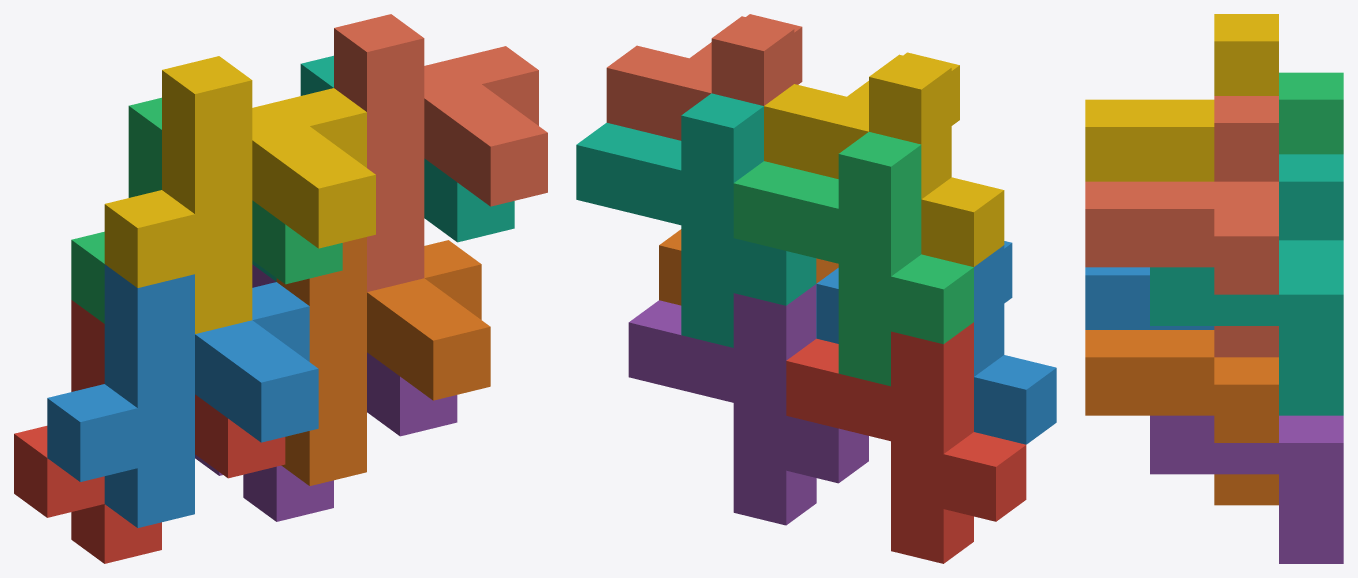
Rendered from tiling.obj.
3 views of the same model, side by side, from view 1: azimuth 30°, elevation 25°; view 2: azimuth 150°, elevation 25°; view 3: azimuth 270°, elevation 25° (orthographic). The views are drawn at different scales.
Parts seen in each view (by area): view 1: copy_1_domain_4, copy_1_domain_2, copy_1_domain_8, copy_1_domain_6, copy_1_domain_1, copy_1_domain_3, copy_1_domain_5, copy_1_domain_7; view 2: copy_1_domain_3, copy_1_domain_1, copy_1_domain_7, copy_1_domain_5, copy_1_domain_4, copy_1_domain_8, copy_1_domain_2, copy_1_domain_6; view 3: copy_1_domain_8, copy_1_domain_7, copy_1_domain_6, copy_1_domain_4, copy_1_domain_5, copy_1_domain_3, copy_1_domain_2.
Boxes of the visible parts, left/top/right/bottom form: copy_1_domain_4: left=104, top=56, right=375, bottom=333; copy_1_domain_2: left=47, top=264, right=318, bottom=527; copy_1_domain_8: left=334, top=14, right=547, bottom=291; copy_1_domain_6: left=276, top=237, right=490, bottom=485; copy_1_domain_1: left=14, top=300, right=285, bottom=563; copy_1_domain_3: left=71, top=97, right=342, bottom=323; copy_1_domain_5: left=195, top=264, right=457, bottom=521; copy_1_domain_7: left=252, top=55, right=514, bottom=281; copy_1_domain_3: left=733, top=132, right=973, bottom=386; copy_1_domain_1: left=786, top=322, right=1026, bottom=563; copy_1_domain_7: left=576, top=93, right=816, bottom=347; copy_1_domain_5: left=628, top=284, right=868, bottom=525; copy_1_domain_4: left=764, top=52, right=1004, bottom=266; copy_1_domain_8: left=606, top=14, right=802, bottom=140; copy_1_domain_2: left=816, top=241, right=1056, bottom=444; copy_1_domain_6: left=659, top=229, right=838, bottom=305; copy_1_domain_8: left=1085, top=96, right=1278, bottom=357; copy_1_domain_7: left=1150, top=154, right=1343, bottom=415; copy_1_domain_6: left=1085, top=330, right=1278, bottom=505; copy_1_domain_4: left=1085, top=14, right=1278, bottom=181; copy_1_domain_5: left=1150, top=415, right=1343, bottom=563; copy_1_domain_3: left=1279, top=72, right=1343, bottom=154; copy_1_domain_2: left=1085, top=267, right=1214, bottom=329.
Size of the model in its own units: 8 by 8 by 4.
